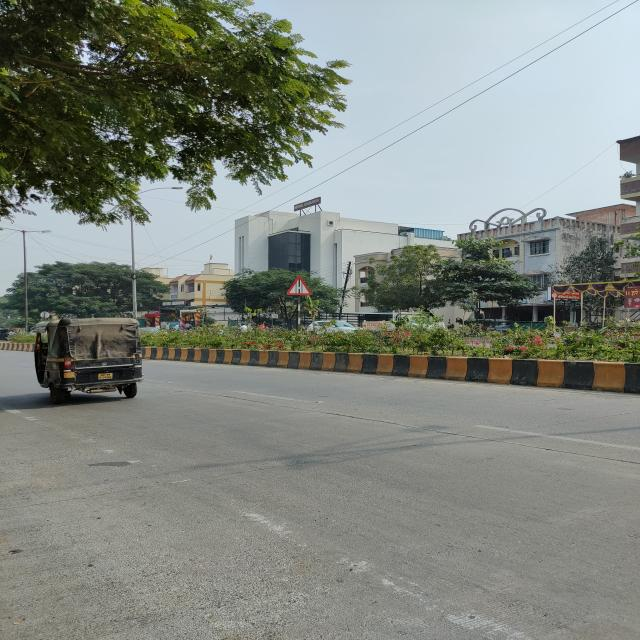ferry: (285, 276, 312, 296)
